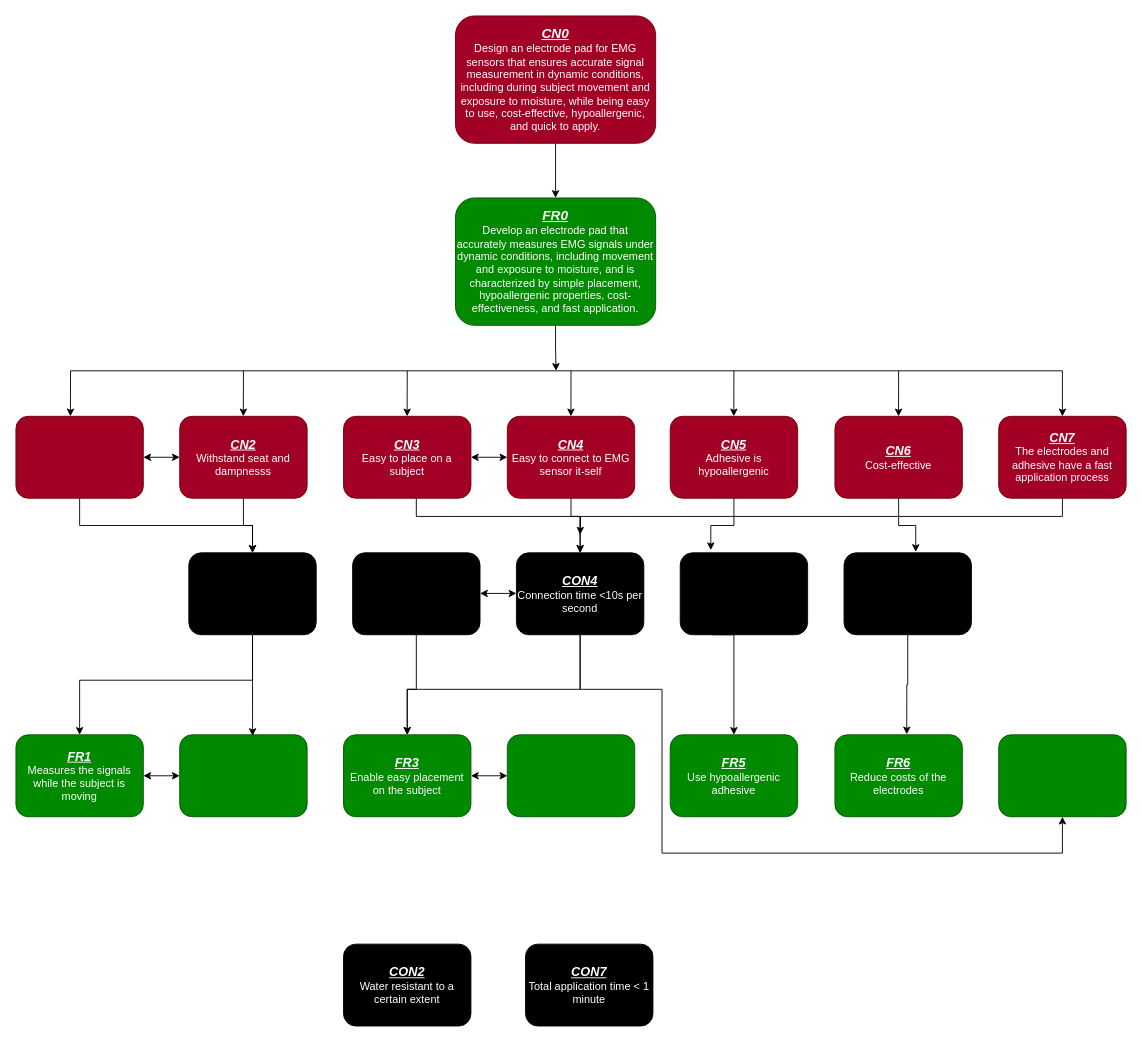
Some shapes in this 1142 by 1042 pixel diagram are drawn without their labels. The shapes that lost their labels are listed below. From the top down, each one's centre as x and y in pixels, then its label:
At [79,456]: "CN1 Able to measure the signals while the subject is moving".
At [252,593]: "CON1 Simple movements such as exercises".
At [416,593]: "CON3 Placement time <30 seconds per pad".
At [743,593]: "CON5 < 20% allergic reaction in users".
At [907,593]: "CON6 Cost-effective electrodes & Cost < 1 €".
At [243,775]: "FR2 Resist sweat and dampness".
At [570,775]: "FR4 Facilitate connection to the EMG base".
At [1062,775]: "FR7 Easy and quick application".
